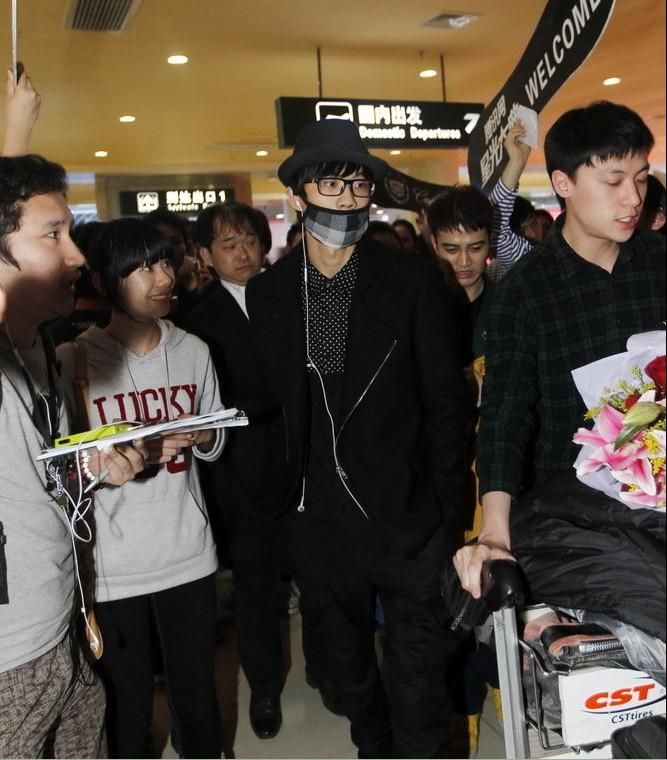NONE: (16, 211, 87, 315), (585, 166, 648, 242), (123, 249, 176, 317), (214, 223, 264, 282), (442, 235, 493, 286), (515, 215, 542, 250)
WRONG: (306, 170, 374, 244)
